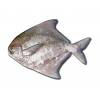Ikan Bawal: (5, 16, 97, 86)
